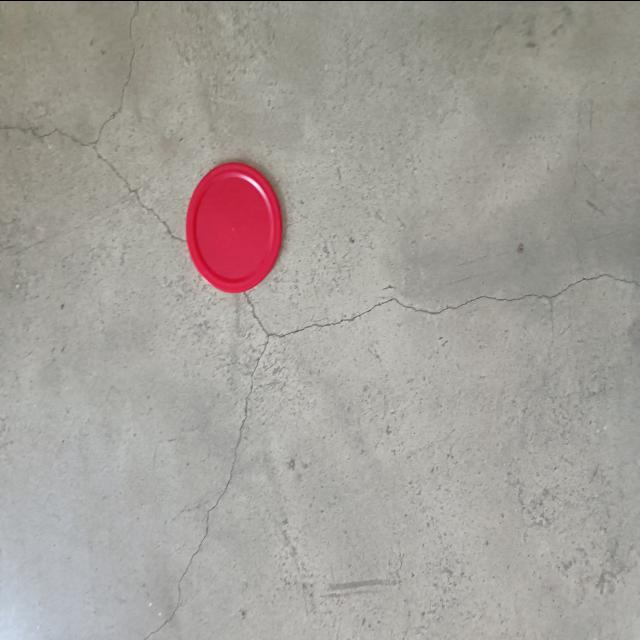chip: (183, 157, 284, 296)
